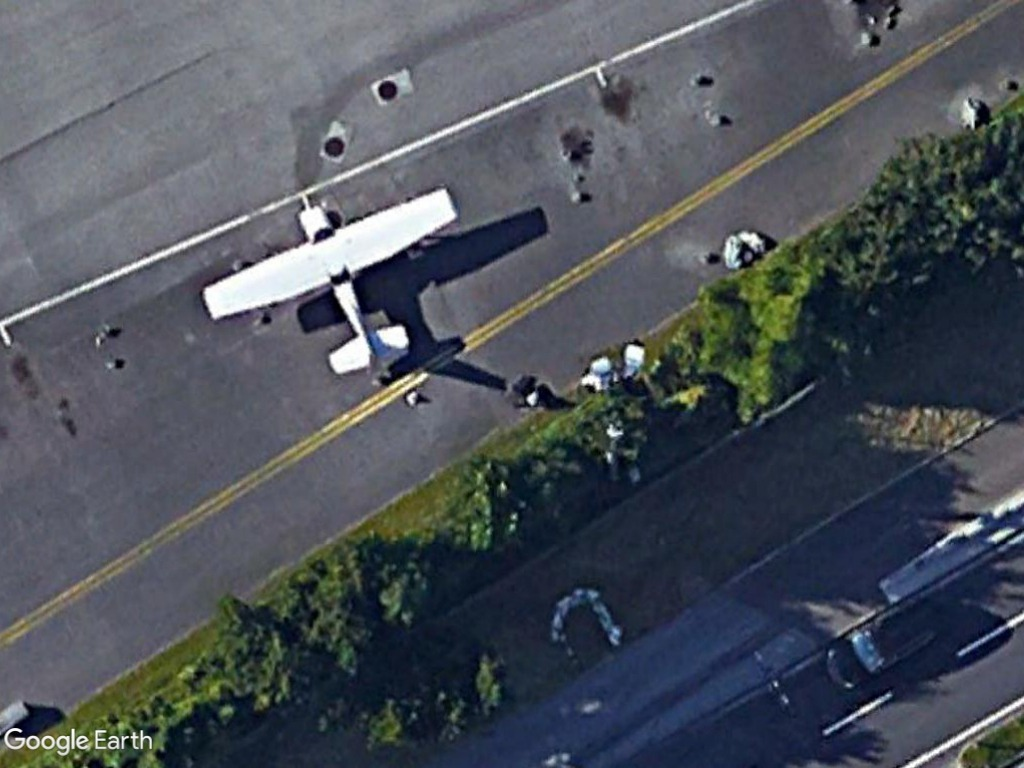trainer: (197, 178, 459, 385)
